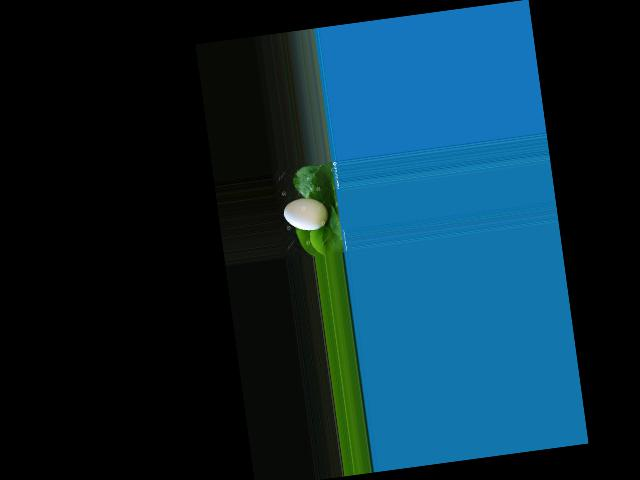egg: (282, 195, 330, 233)
